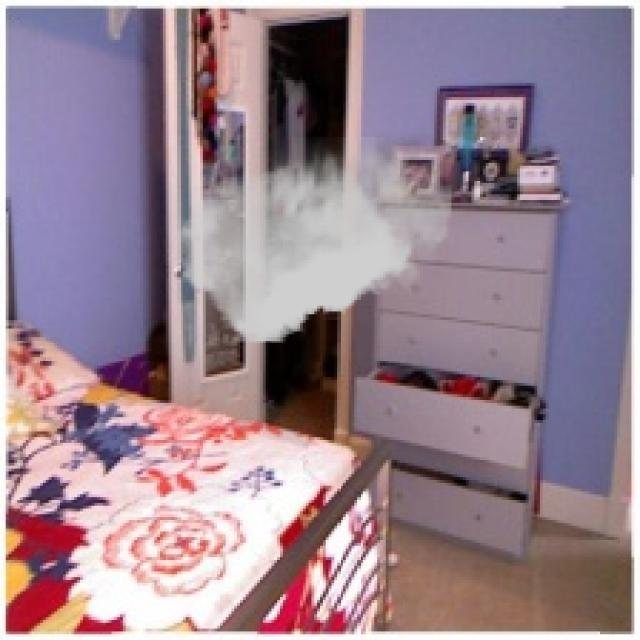Smoke: (177, 137, 452, 343)
